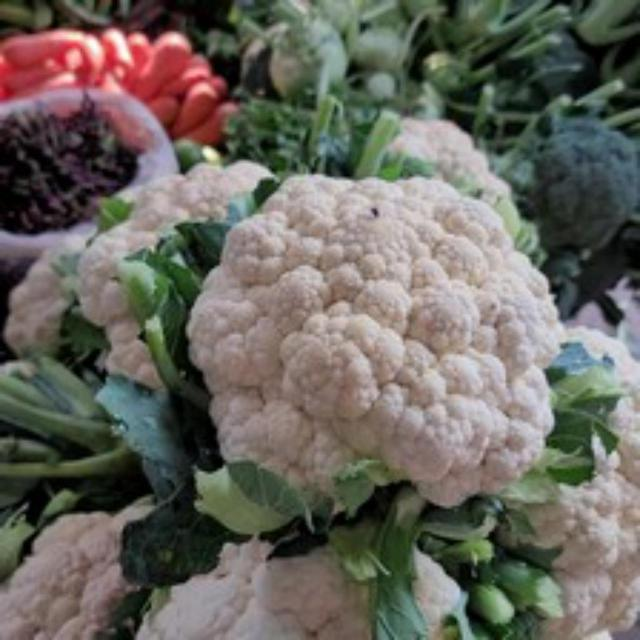cauliflower: (170, 156, 566, 532)
